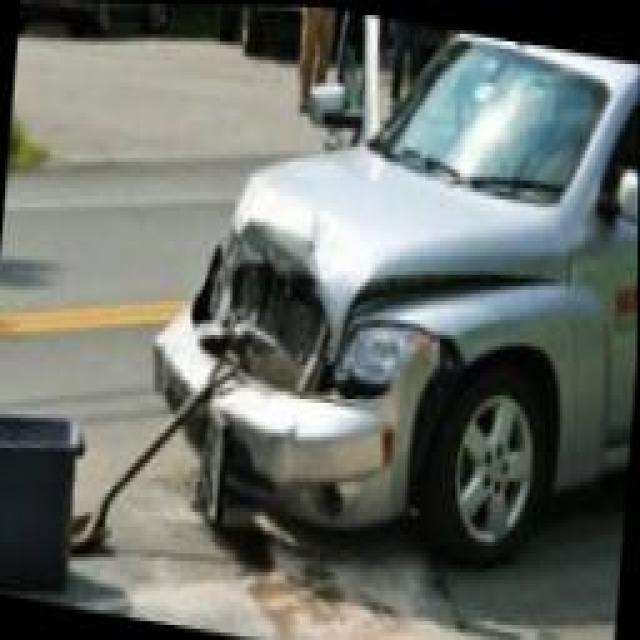Bonnet: (233, 157, 393, 349)
Bumper: (152, 249, 440, 520)
